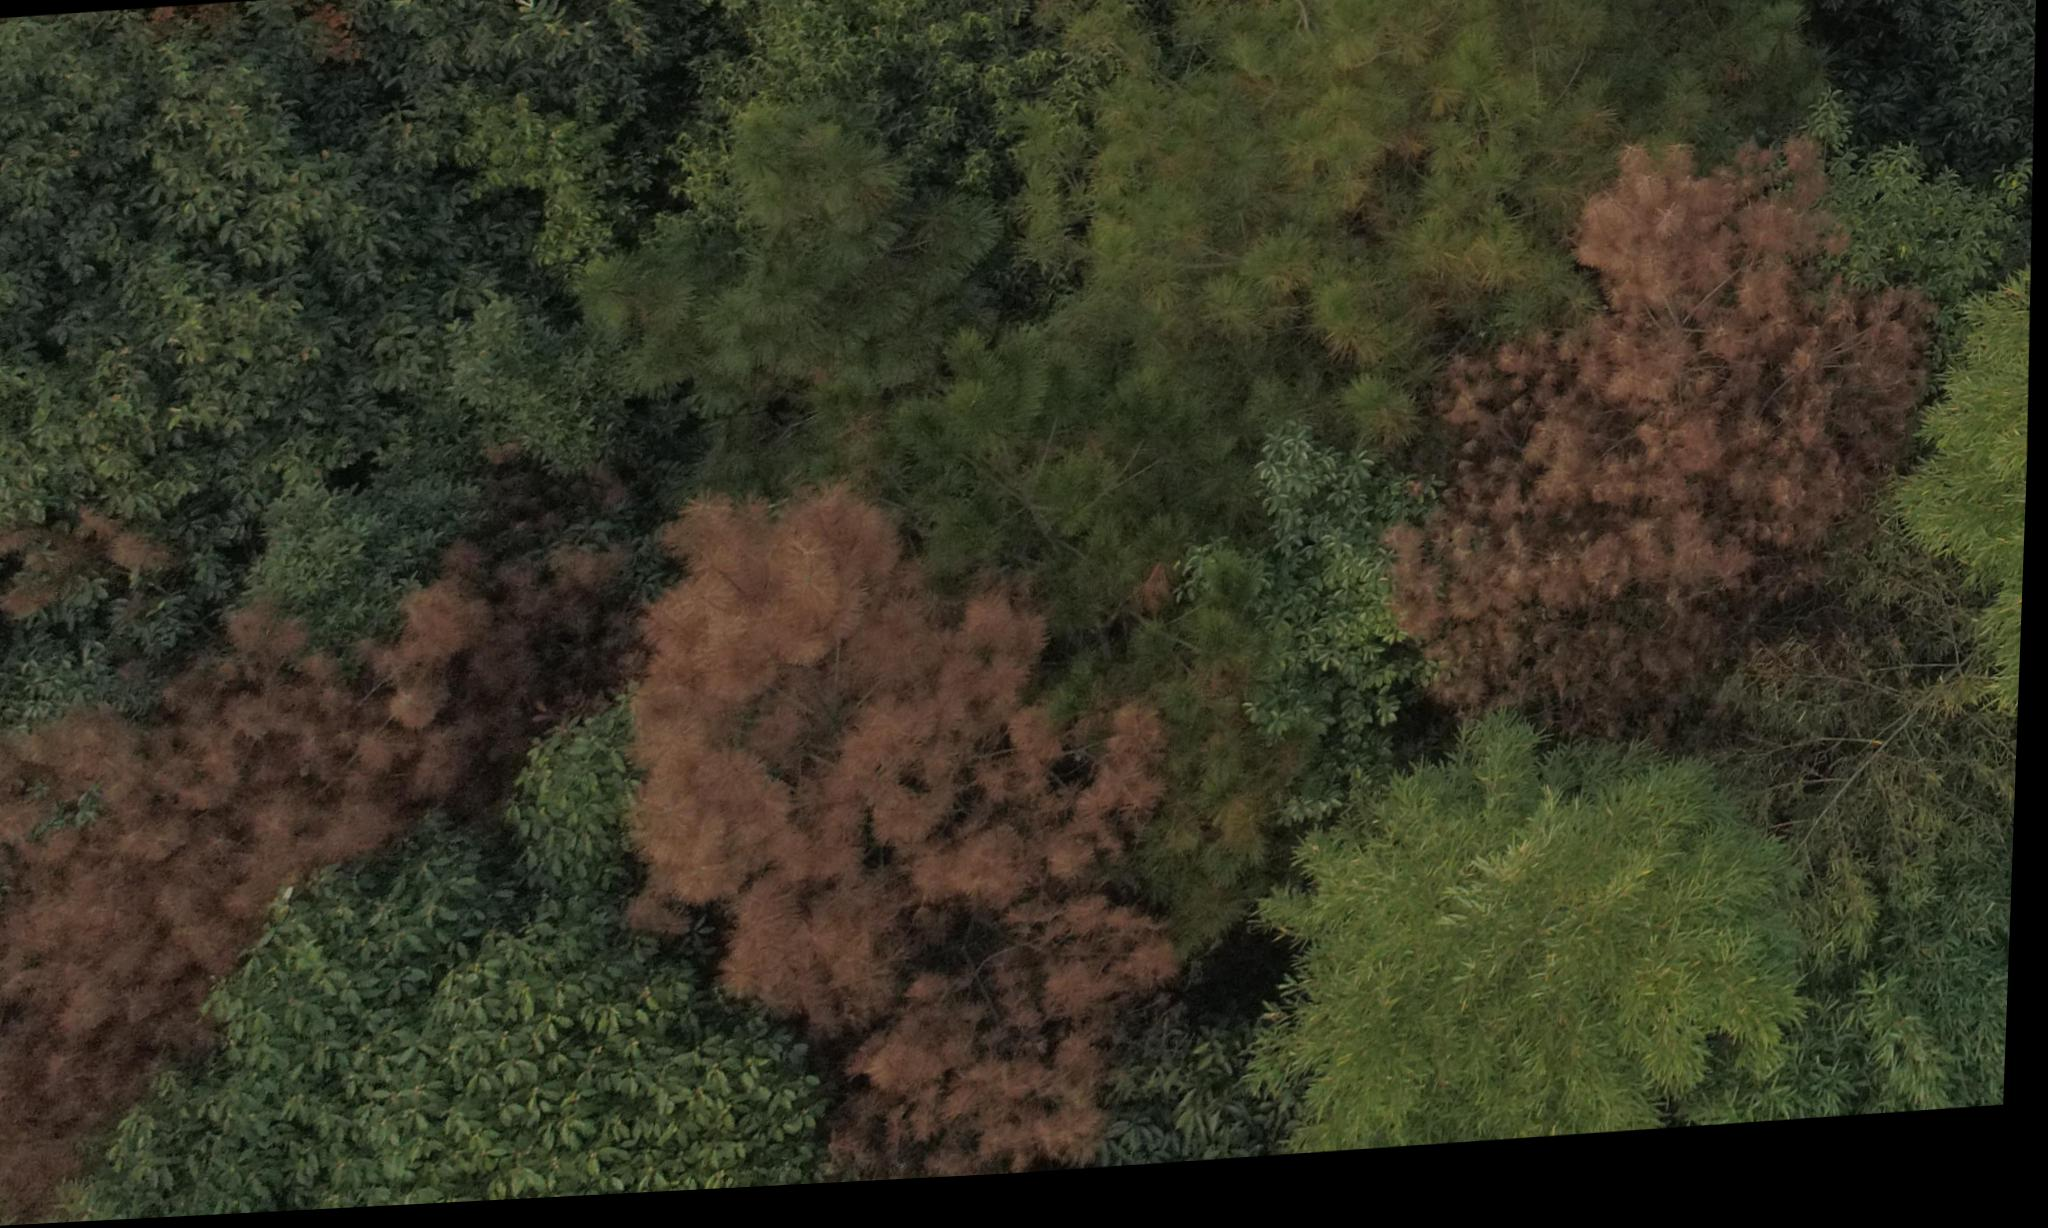heavy: (618, 471, 1184, 1193), (1387, 142, 1941, 767), (0, 589, 477, 1172)
